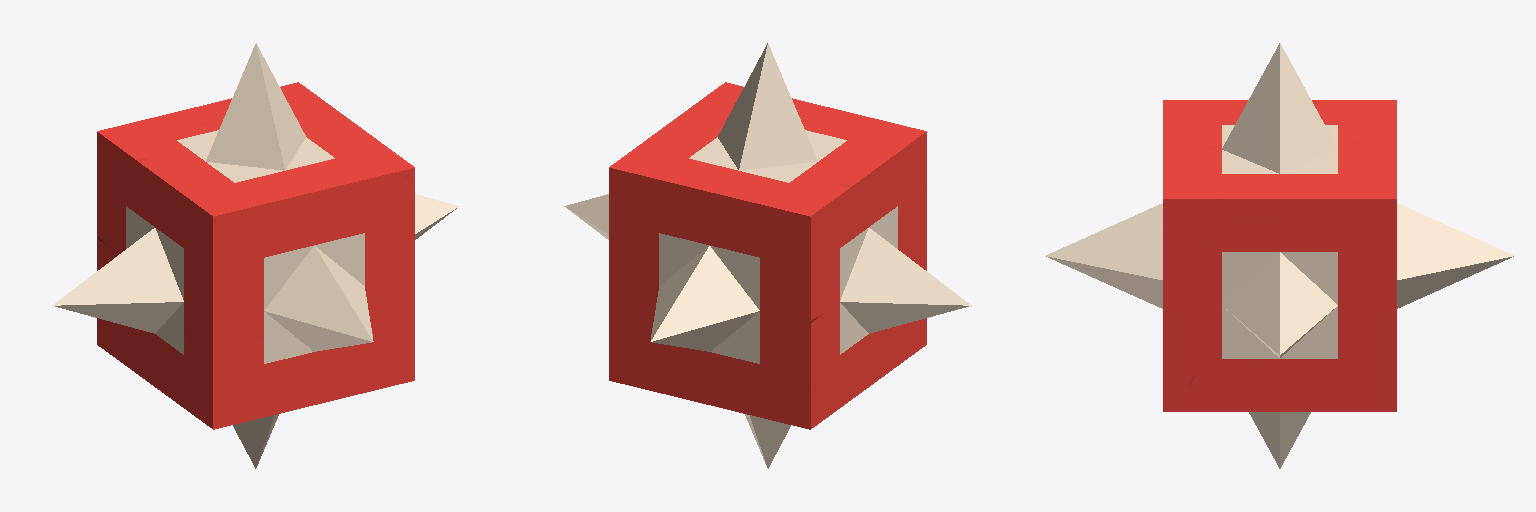
The picture shows the model from 3 angles: view 1: azimuth 30°, elevation 25°; view 2: azimuth 150°, elevation 25°; view 3: azimuth 270°, elevation 25°; orthographic projection.
Parts seen in each view (by area): view 1: Cube; view 2: Cube; view 3: Cube.
Part boxes in pixels (left/top/right/bottom): Cube: left=52, top=43, right=459, bottom=468; Cube: left=564, top=43, right=971, bottom=468; Cube: left=1046, top=43, right=1513, bottom=468.
Bounding box in the file's own units: 1.1 × 1.1 × 1.1.
1 materials, 1 textured.